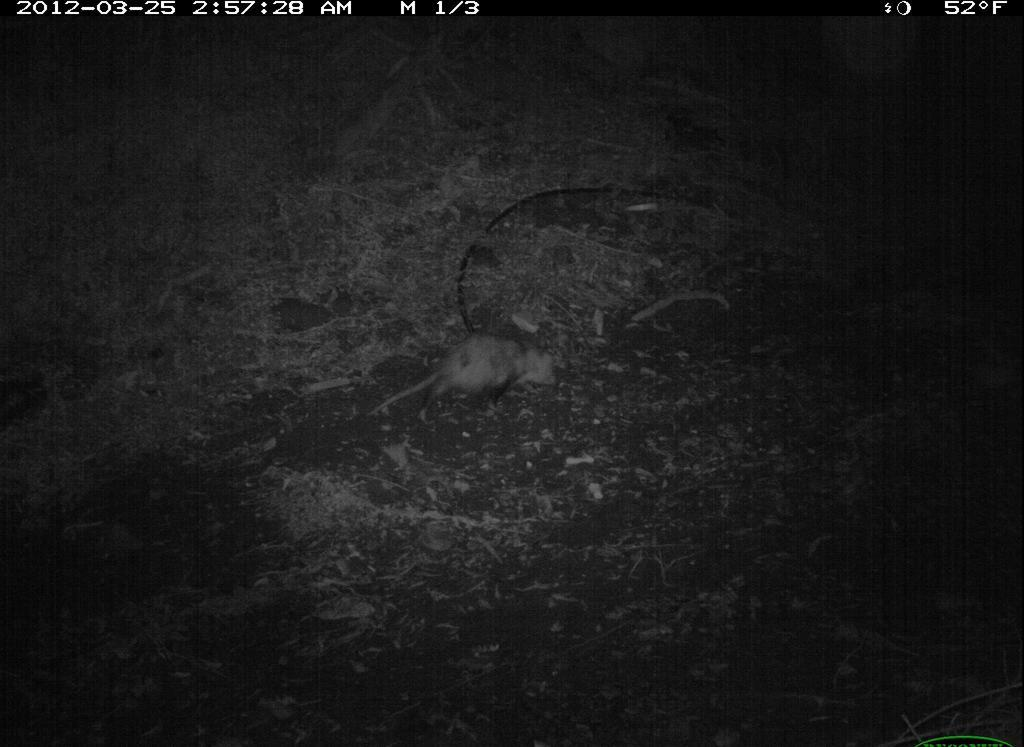opossum: (351, 322, 580, 459)
